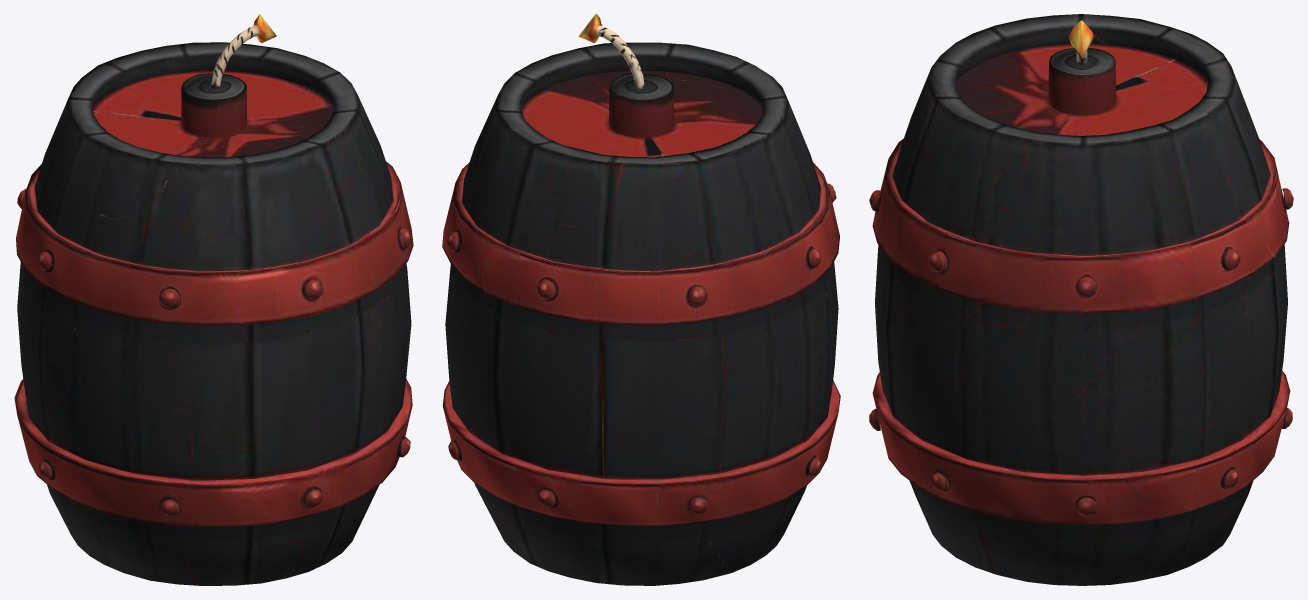
Rendered from powder-keg.glb.
The picture shows the model from 3 angles, left to right: view 1: azimuth 30°, elevation 25°; view 2: azimuth 150°, elevation 25°; view 3: azimuth 270°, elevation 25°; orthographic projection. The views are drawn at different scales.
Size of the model in its own units: 0.7421 by 1 by 0.7324.
Materials: 1 (1 with a texture image).
